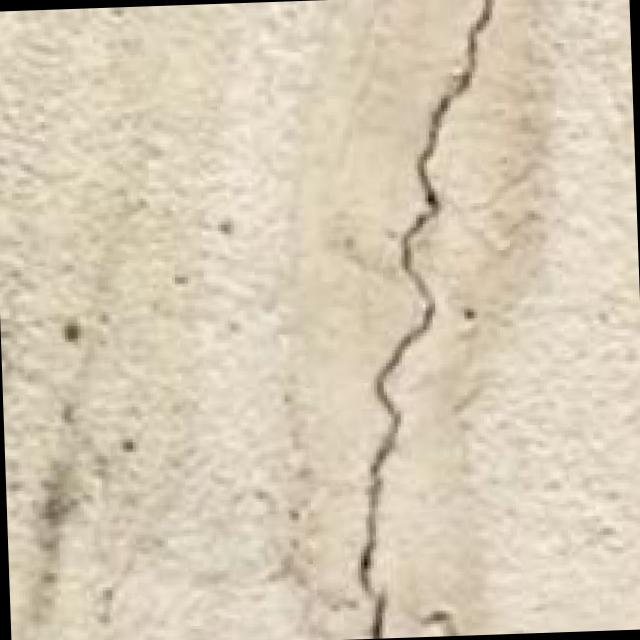crack: (318, 0, 548, 636)
